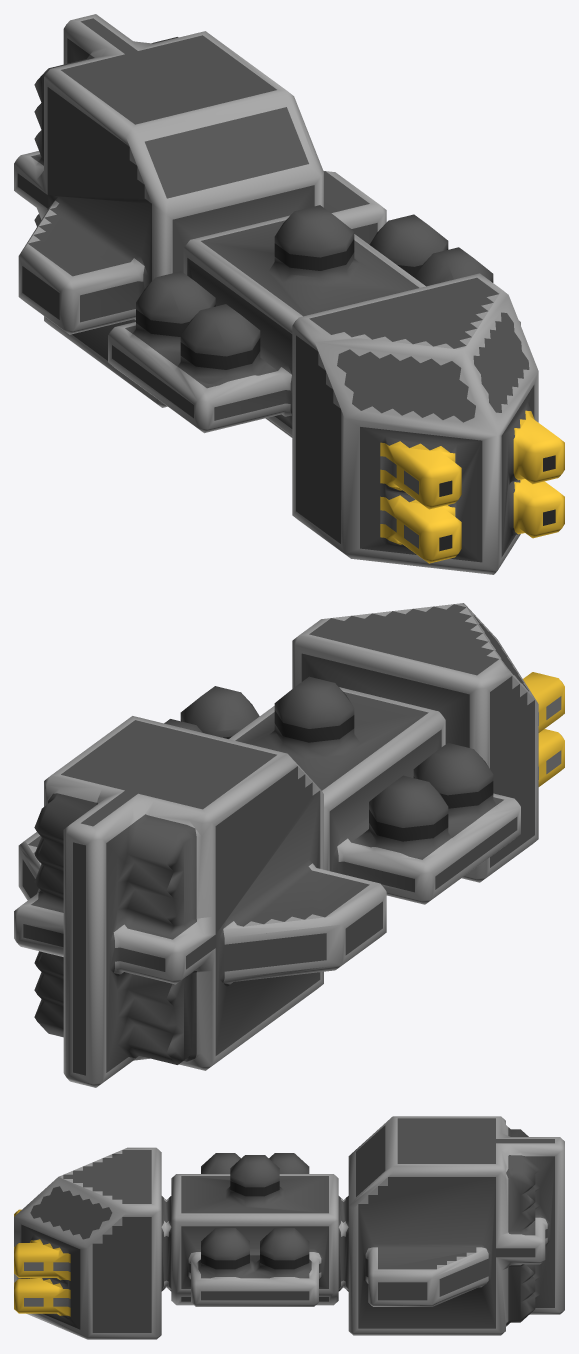
Rendered from mechyrdia-2-pilum-class.obj.
The picture shows the model from 3 angles, top to bottom: view 1: azimuth 30°, elevation 25°; view 2: azimuth 150°, elevation 25°; view 3: azimuth 270°, elevation 25°; orthographic projection. The views are drawn at different scales.
Size of the model in its own units: 25 by 19 by 56.
Materials: 1 (1 with a texture image).
